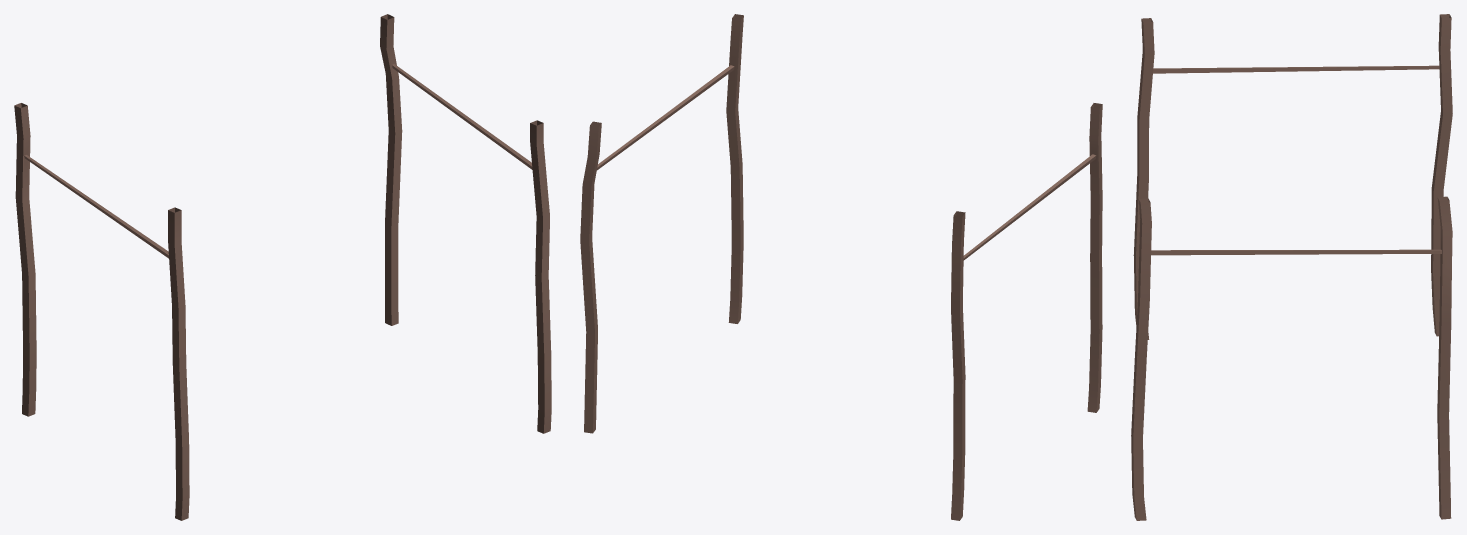
File: Tenda_Wood_low.fbx
The picture shows the model from 3 angles, left to right: view 1: azimuth 30°, elevation 25°; view 2: azimuth 150°, elevation 25°; view 3: azimuth 270°, elevation 25°; orthographic projection. The views are drawn at different scales.
Parts seen in each view (by area): view 1: Tenda_Wood_low; view 2: Tenda_Wood_low; view 3: Tenda_Wood_low.
Boxes of the visible parts, x1,y1,x2,y2 form: Tenda_Wood_low: (14, 14, 551, 520); Tenda_Wood_low: (580, 14, 1102, 520); Tenda_Wood_low: (1131, 14, 1452, 520).
Bounding box in the file's own units: 3.8 × 2.91 × 2.69.
